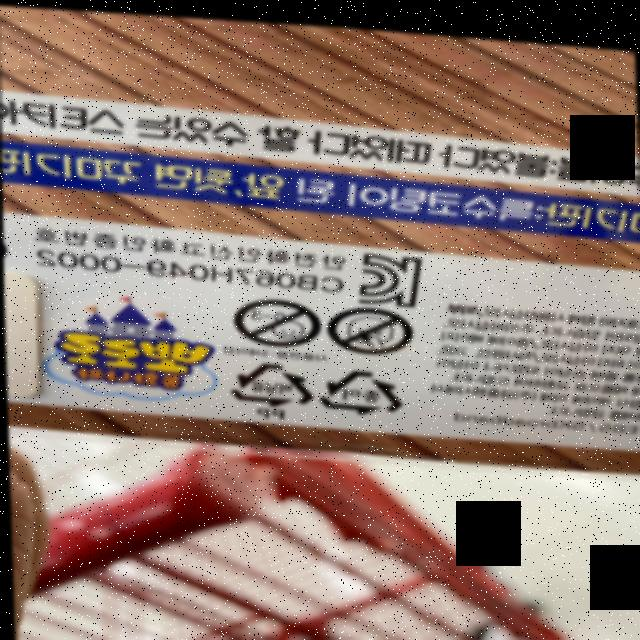Paper: (316, 358, 404, 413)
Vinyl: (225, 353, 314, 406)
